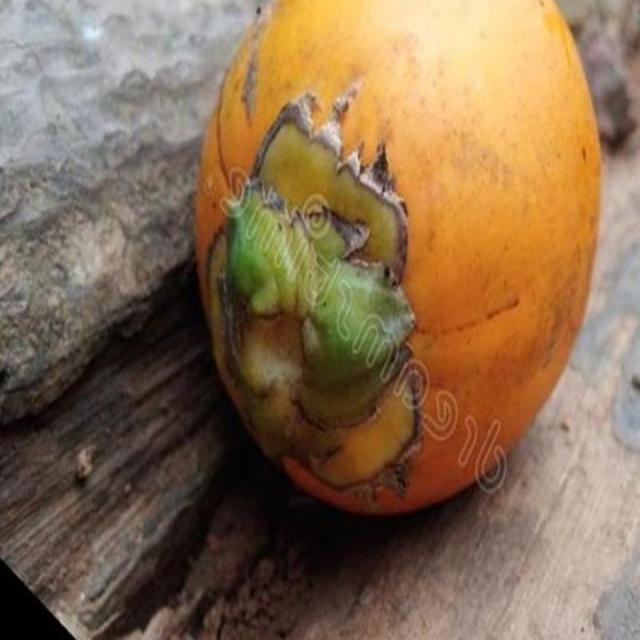good: (192, 0, 604, 522)
